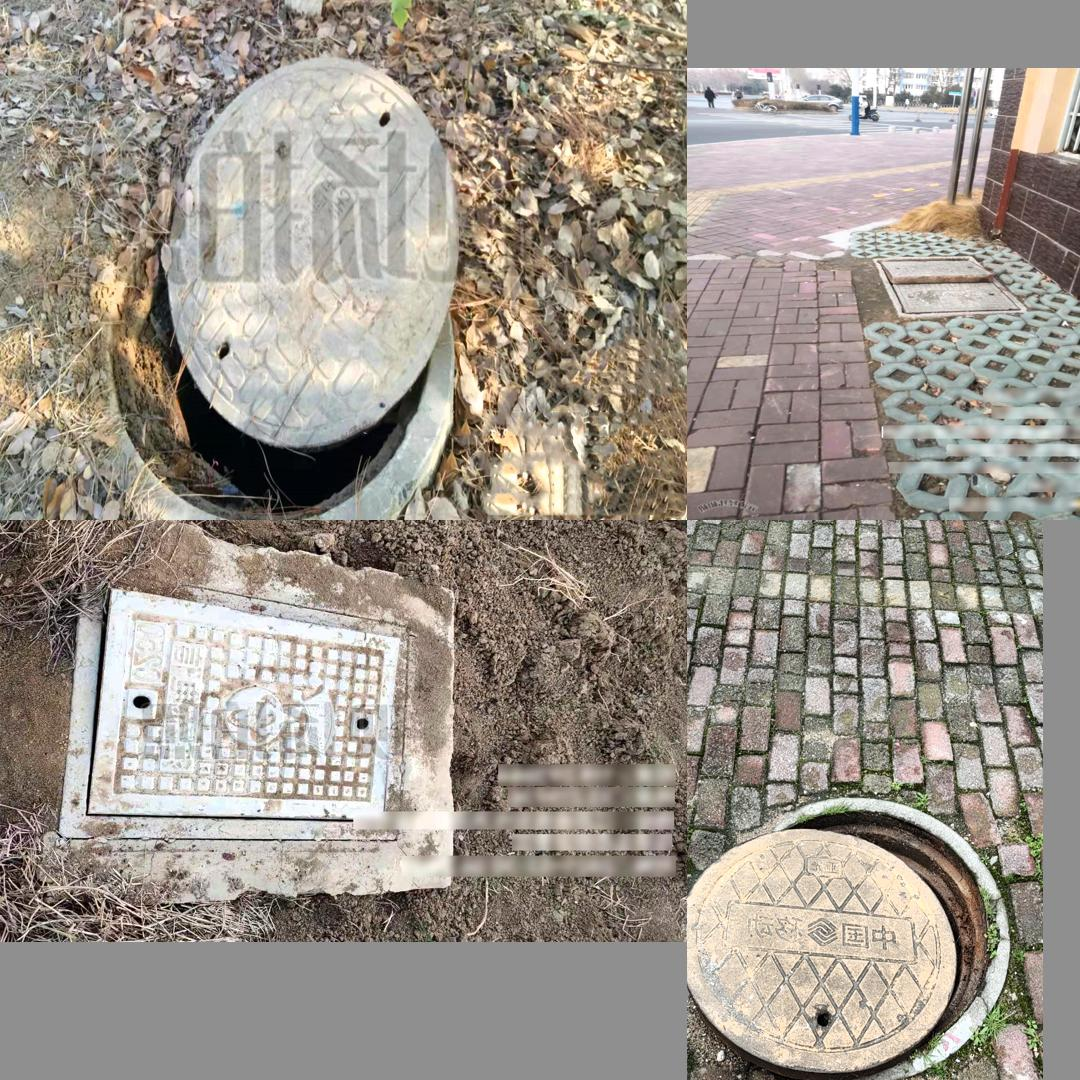uncovered: (89, 55, 457, 520), (33, 580, 414, 834), (687, 798, 1010, 1080), (867, 237, 1008, 287)
